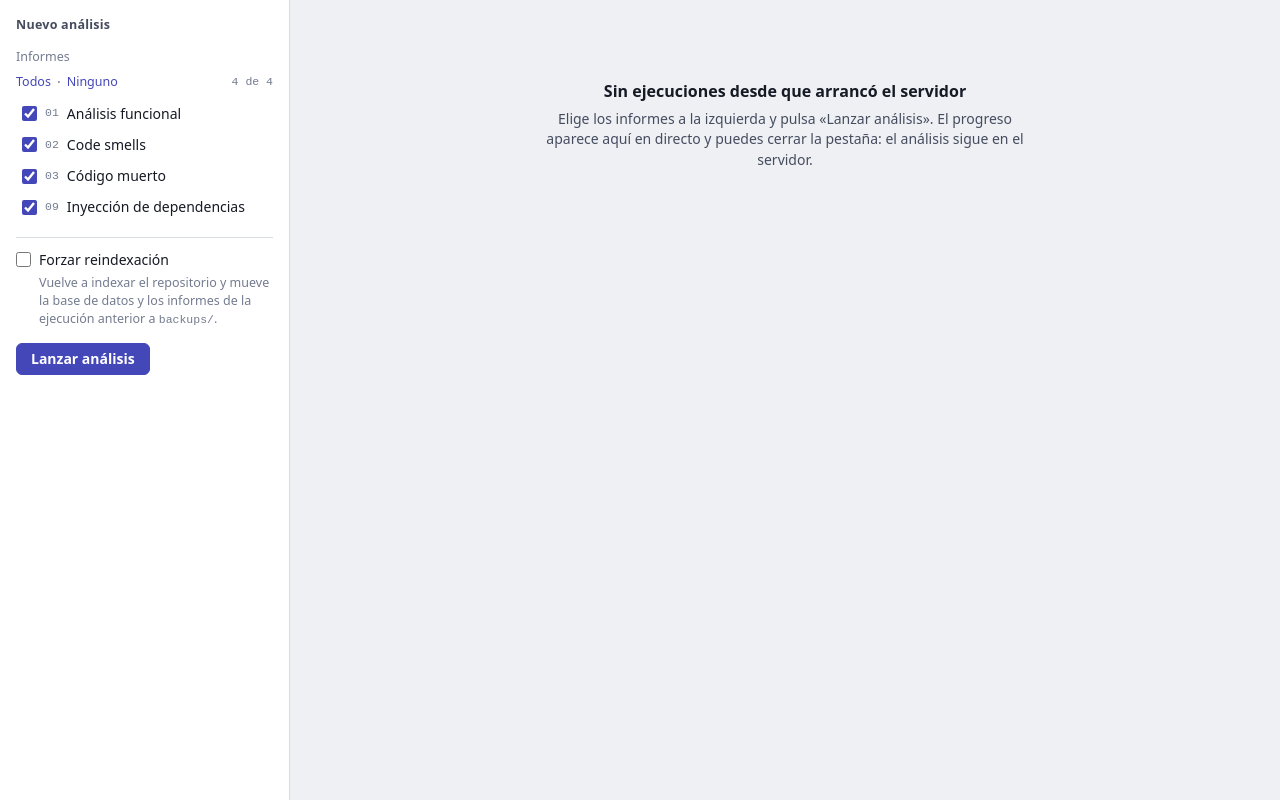
Test: AnalysisLauncher › un 400 invalid_request se muestra como error con el detalle del servidor
Click the button "Lanzar análisis" at (83, 359), box 16,343 -> 150,375
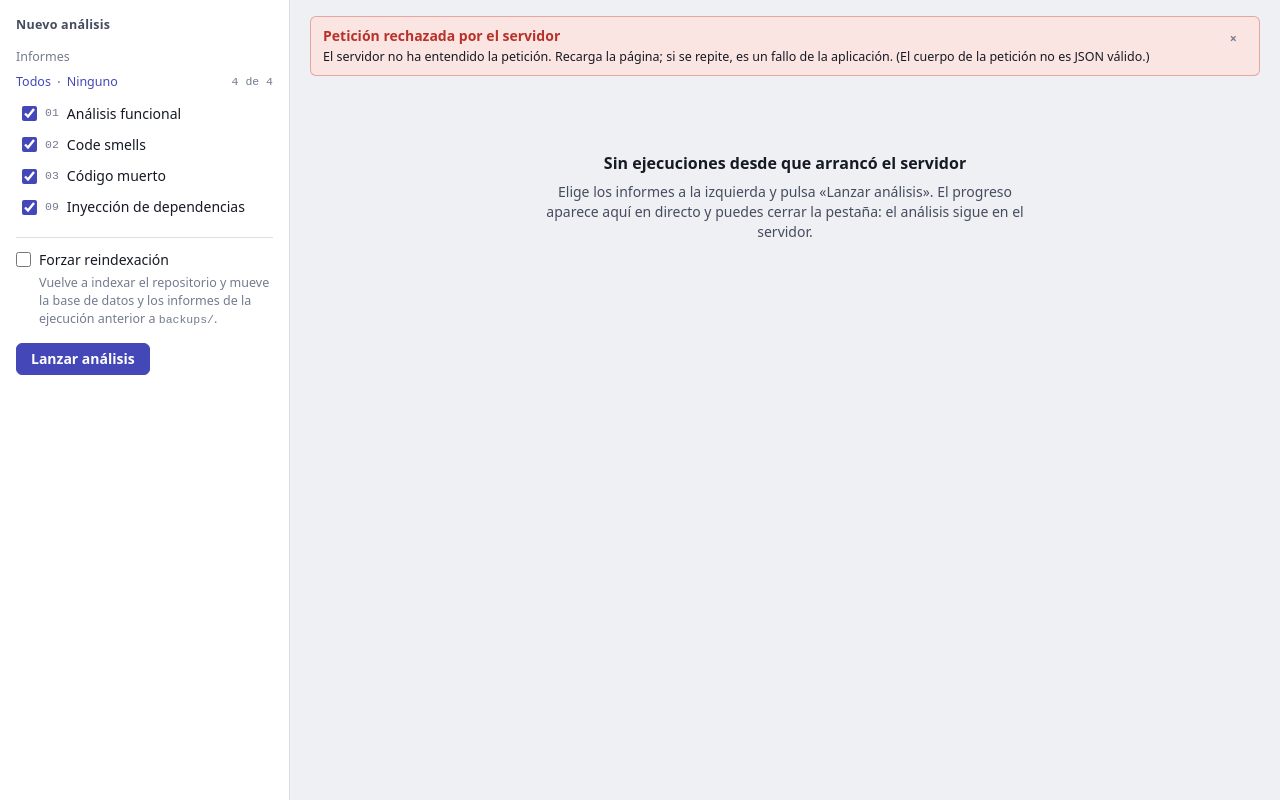
Check: the message shows "Petición rechazada por el servidor", box 323,26 -> 560,45
Check: the message shows "(El cuerpo de la petición no es JSON válido.)", box 323,48 -> 1149,65
